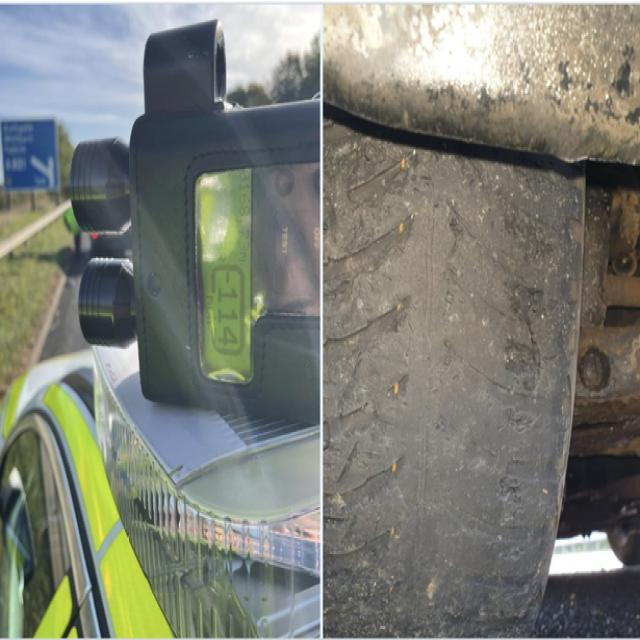Flat spots: (323, 175, 531, 639)
